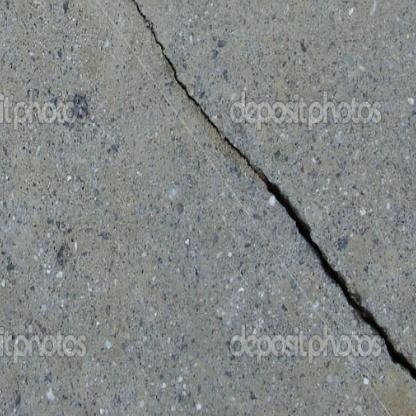Cracks: (105, 0, 416, 399)
